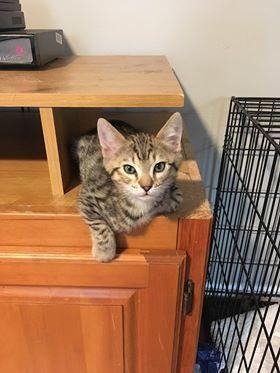bengal: (87, 107, 195, 211)
